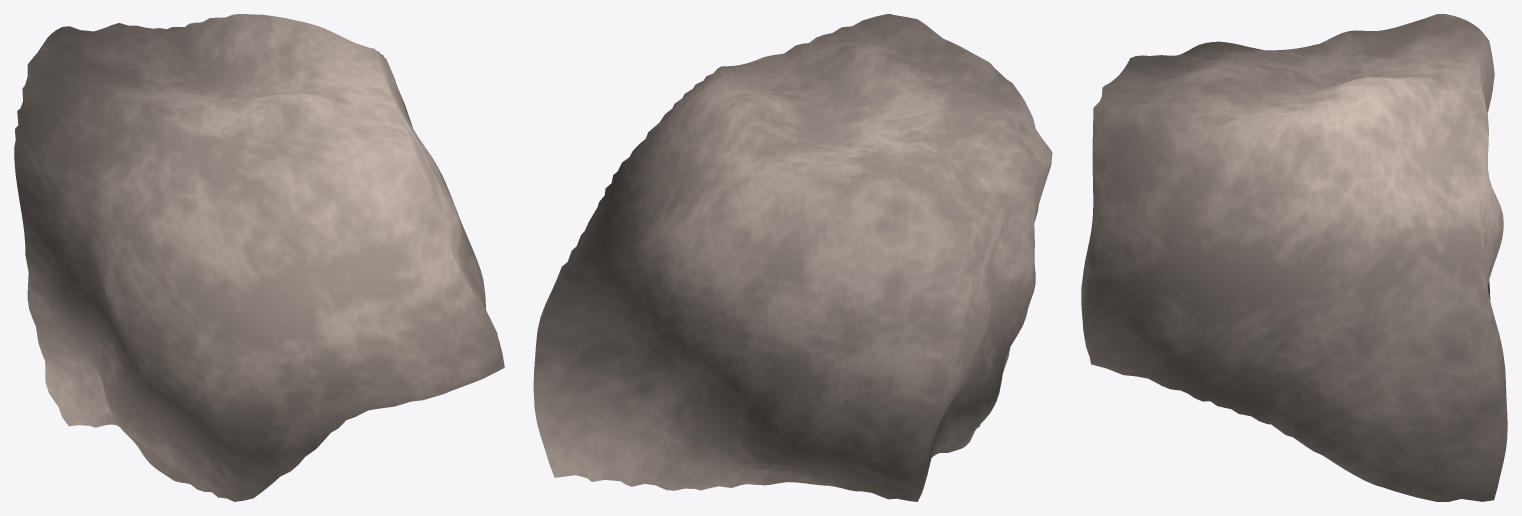
The model's file is asteroid-quartz.glb.
3 views of the same model, side by side, from view 1: azimuth 30°, elevation 25°; view 2: azimuth 150°, elevation 25°; view 3: azimuth 270°, elevation 25° (orthographic). The views are drawn at different scales.
Parts seen in each view (by area): view 1: asteroid_1003; view 2: asteroid_1003; view 3: asteroid_1003.
Part boxes in pixels (x1=…): asteroid_1003: x1=14, y1=14, x2=504, y2=501; asteroid_1003: x1=533, y1=14, x2=1052, y2=501; asteroid_1003: x1=1081, y1=14, x2=1507, y2=501.
Bounding box in the file's own units: 38.83 × 35.19 × 38.11.
1 material, 1 textured.
